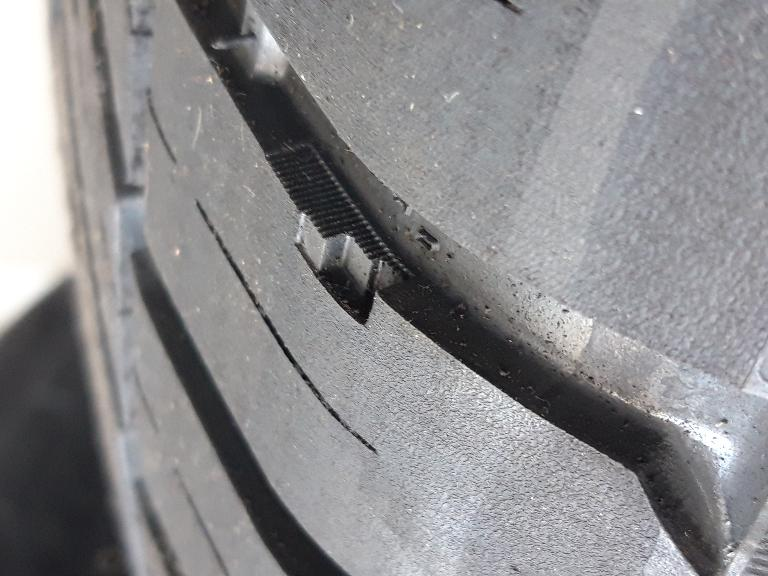temoin:50: (290, 198, 424, 335)
